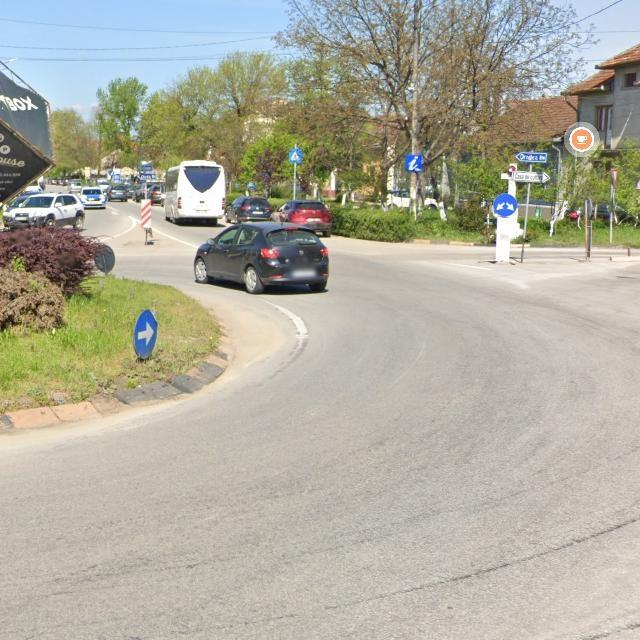info_crosswalk: (289, 149, 303, 163)
